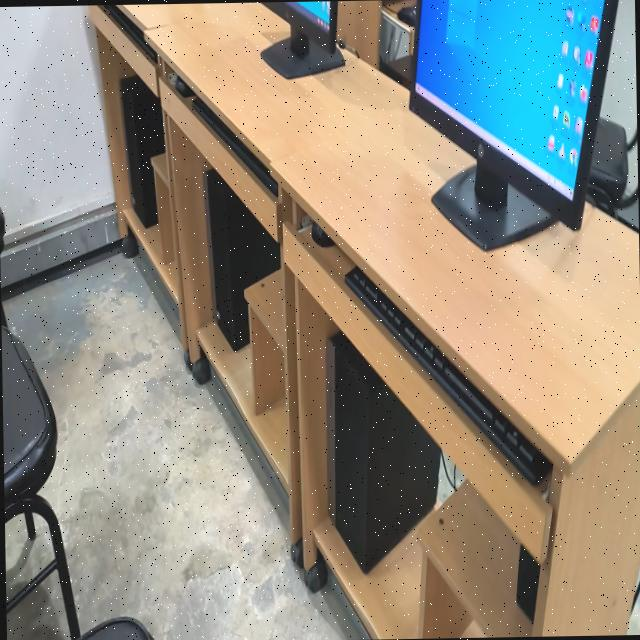Chair: (0, 322, 79, 637), (586, 116, 638, 206), (72, 616, 155, 640), (0, 207, 4, 251)
Cpu: (326, 330, 439, 571), (204, 167, 278, 349), (119, 75, 163, 227), (380, 53, 410, 87)
Keyboard: (343, 265, 550, 484), (191, 97, 277, 195), (102, 4, 156, 63)
Mouse: (167, 72, 194, 96), (310, 221, 334, 245), (395, 5, 414, 25)
